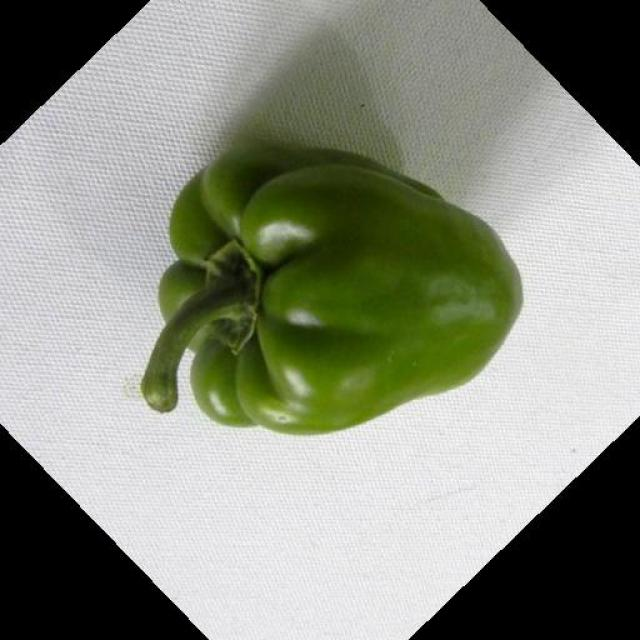Fresh_Capsicum: (150, 139, 534, 596)
